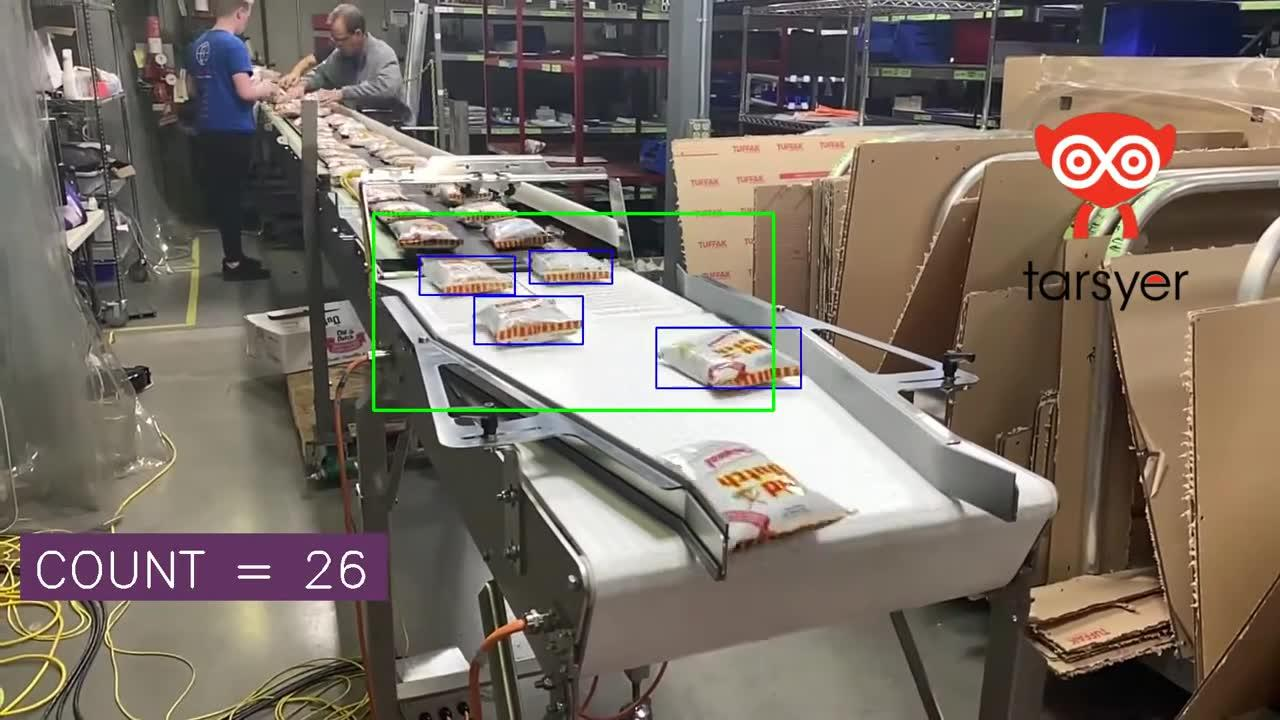Snack: (661, 441, 850, 549), (659, 328, 800, 388), (476, 297, 581, 344), (423, 258, 514, 294), (531, 250, 612, 283), (388, 217, 462, 252), (484, 218, 552, 249), (456, 200, 511, 228), (362, 184, 406, 205), (322, 156, 369, 175), (318, 148, 367, 165), (432, 183, 465, 206), (371, 145, 415, 162), (370, 200, 429, 212), (334, 117, 367, 138), (328, 161, 369, 177), (364, 136, 398, 155), (274, 100, 301, 119), (345, 131, 377, 147), (389, 156, 428, 168), (326, 114, 351, 128)
